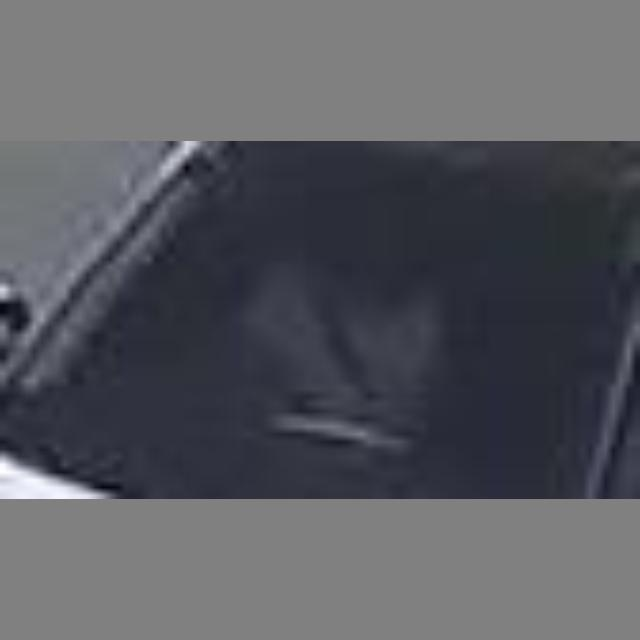pakai: (213, 217, 465, 423)
